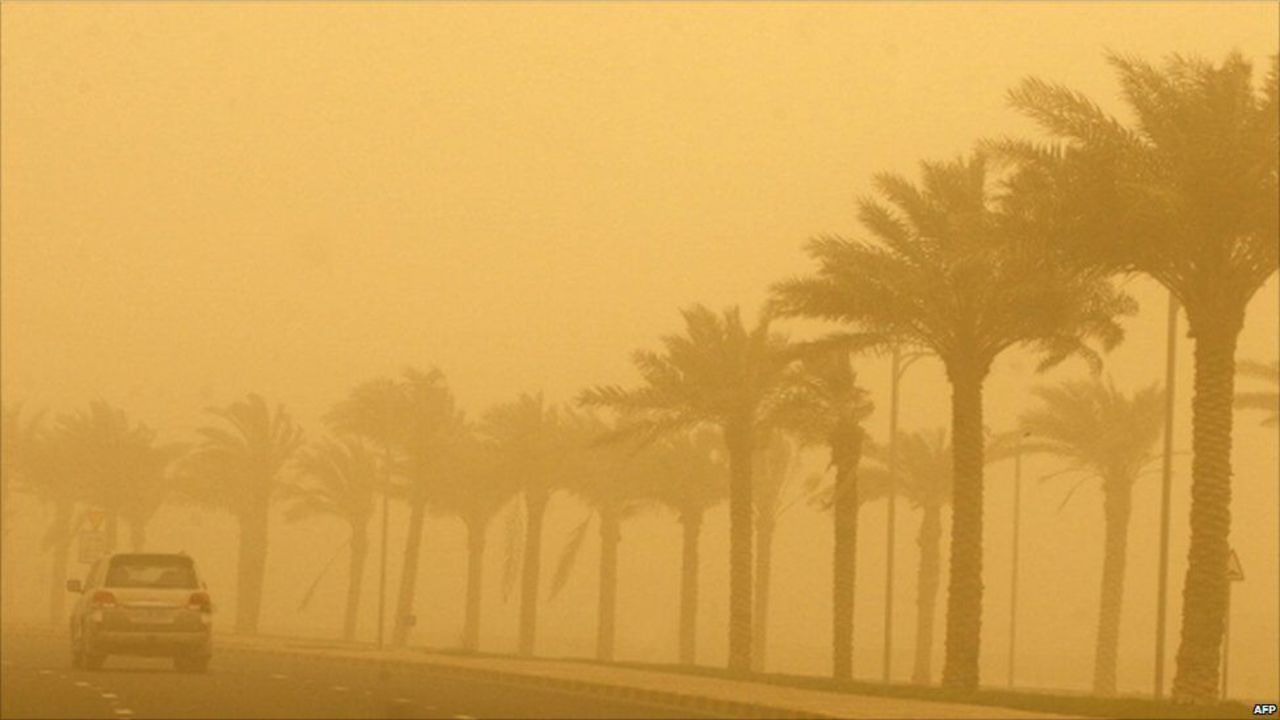car: (60, 546, 215, 665)
